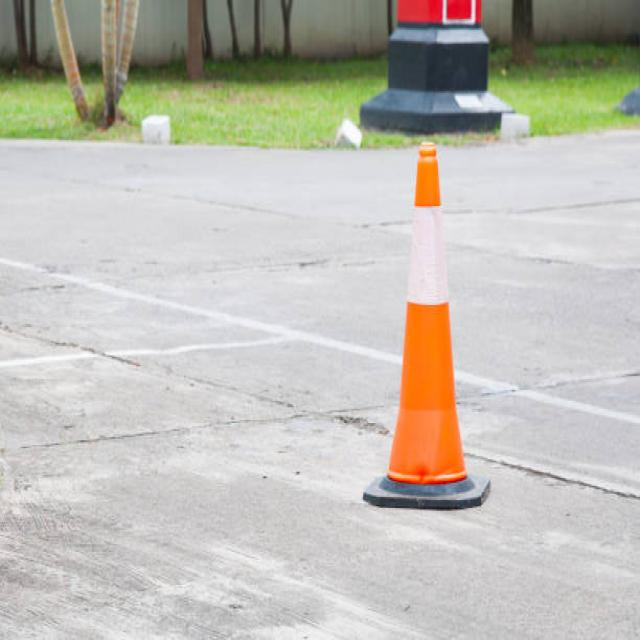Traffic Cone: (356, 106, 498, 533)
